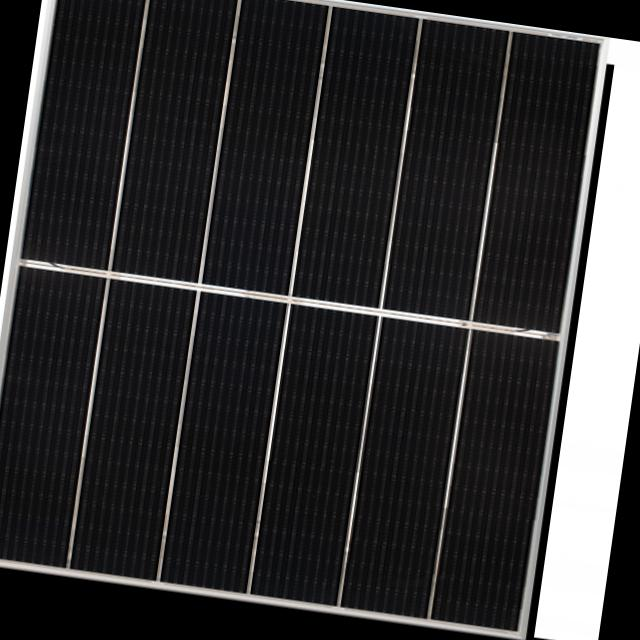no faulty: (0, 0, 608, 629)
